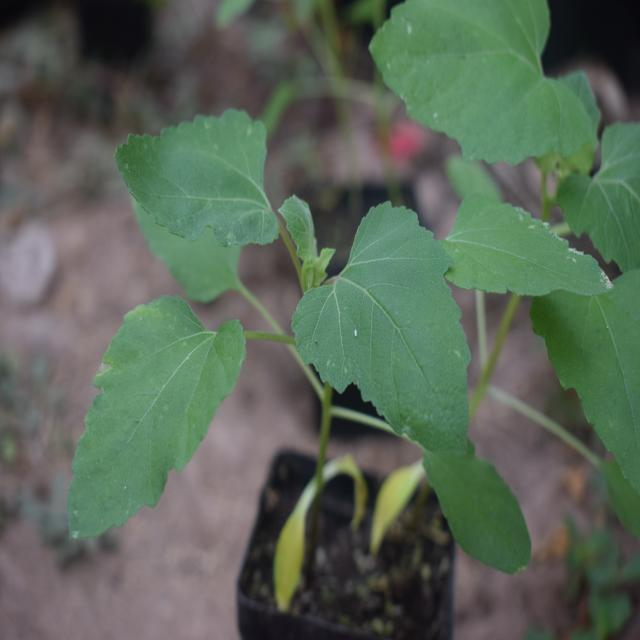cocklebur: (76, 90, 574, 544)
